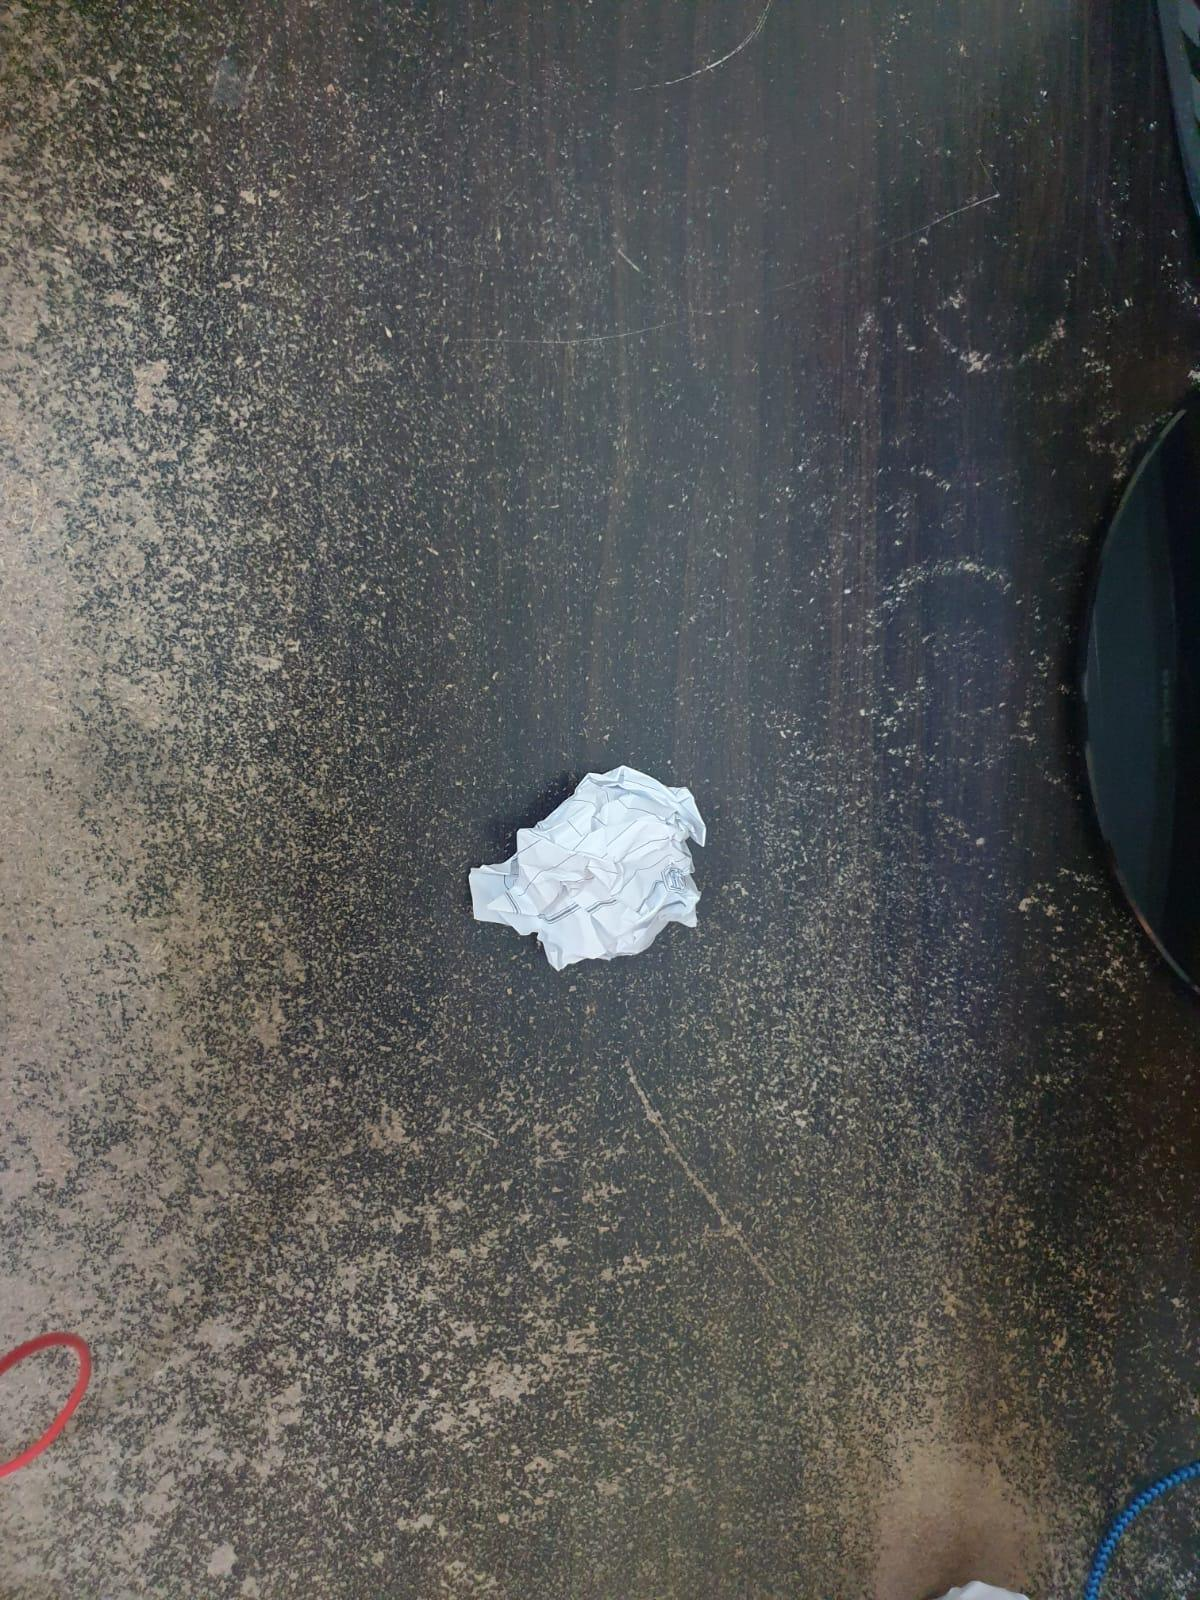Paper: (475, 761, 727, 974)
